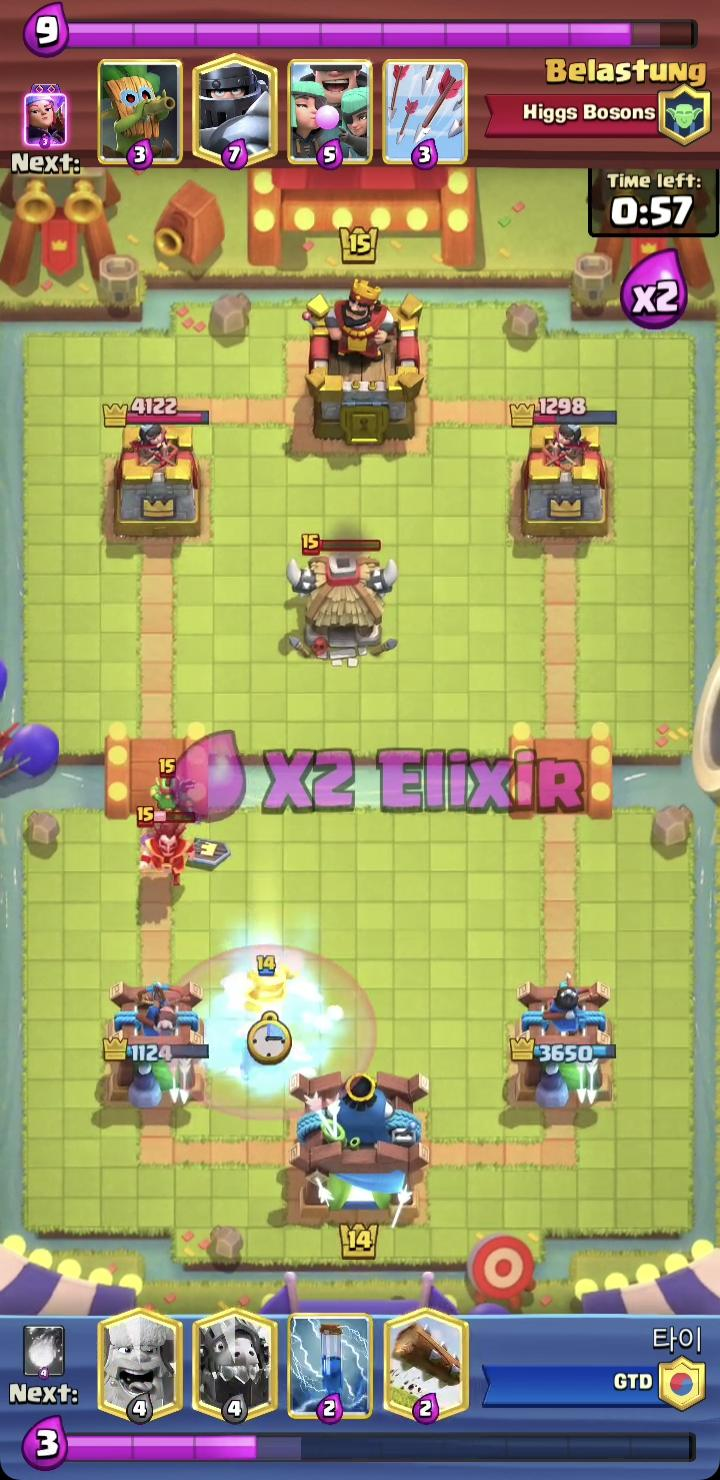ally_ice_wizard: (240, 953, 298, 1014)
enemy_electro_wizard: (135, 805, 198, 888)
enemy_goblin_hut: (284, 533, 399, 669)
enemy_spear_goblin: (148, 755, 200, 827)
